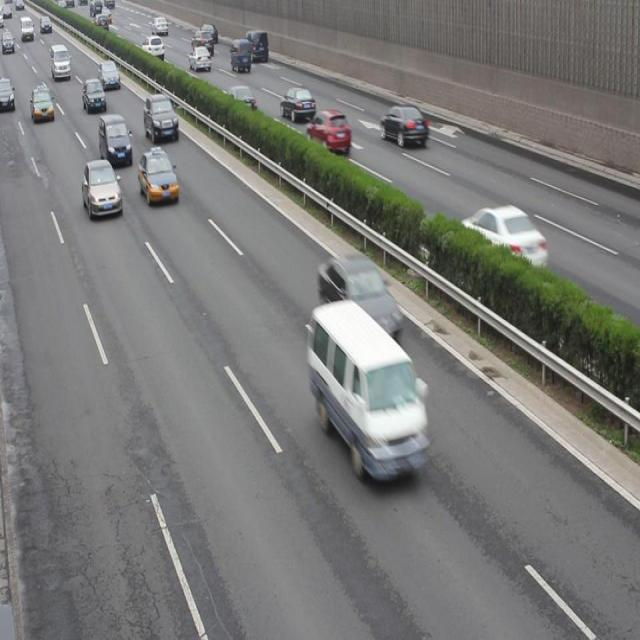car: (318, 258, 401, 342), (458, 206, 546, 270), (81, 159, 123, 219), (138, 148, 180, 206), (306, 108, 350, 154), (380, 106, 427, 146), (99, 113, 132, 164), (144, 94, 179, 142), (280, 87, 316, 122), (31, 84, 55, 122), (226, 85, 256, 115), (82, 78, 106, 112), (230, 38, 251, 72), (98, 61, 121, 91), (141, 36, 164, 60), (188, 47, 210, 70), (192, 31, 214, 53), (1, 79, 16, 111), (151, 16, 169, 36), (200, 23, 218, 43)
truck: (310, 300, 428, 483), (50, 43, 71, 79), (243, 30, 268, 60)
